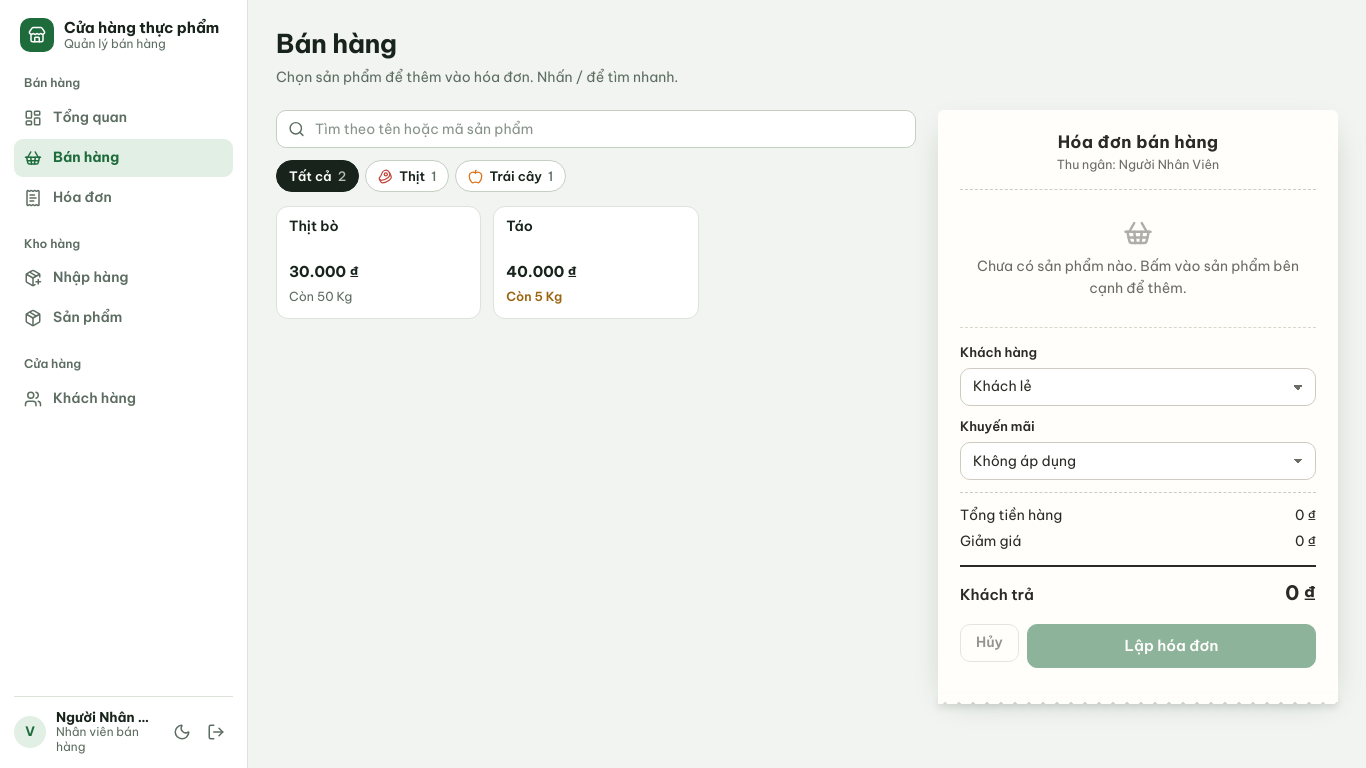
Test: App › lập hóa đơn: thêm sản phẩm, máy chủ tính khuyến mãi, gửi đúng dữ liệu
This screenshot has width=1366, height=768.
Click the button "Thịt bò 30.000 ₫ Còn 50 Kg" at (379, 263), box x1=276 y1=206 x2=481 y2=319
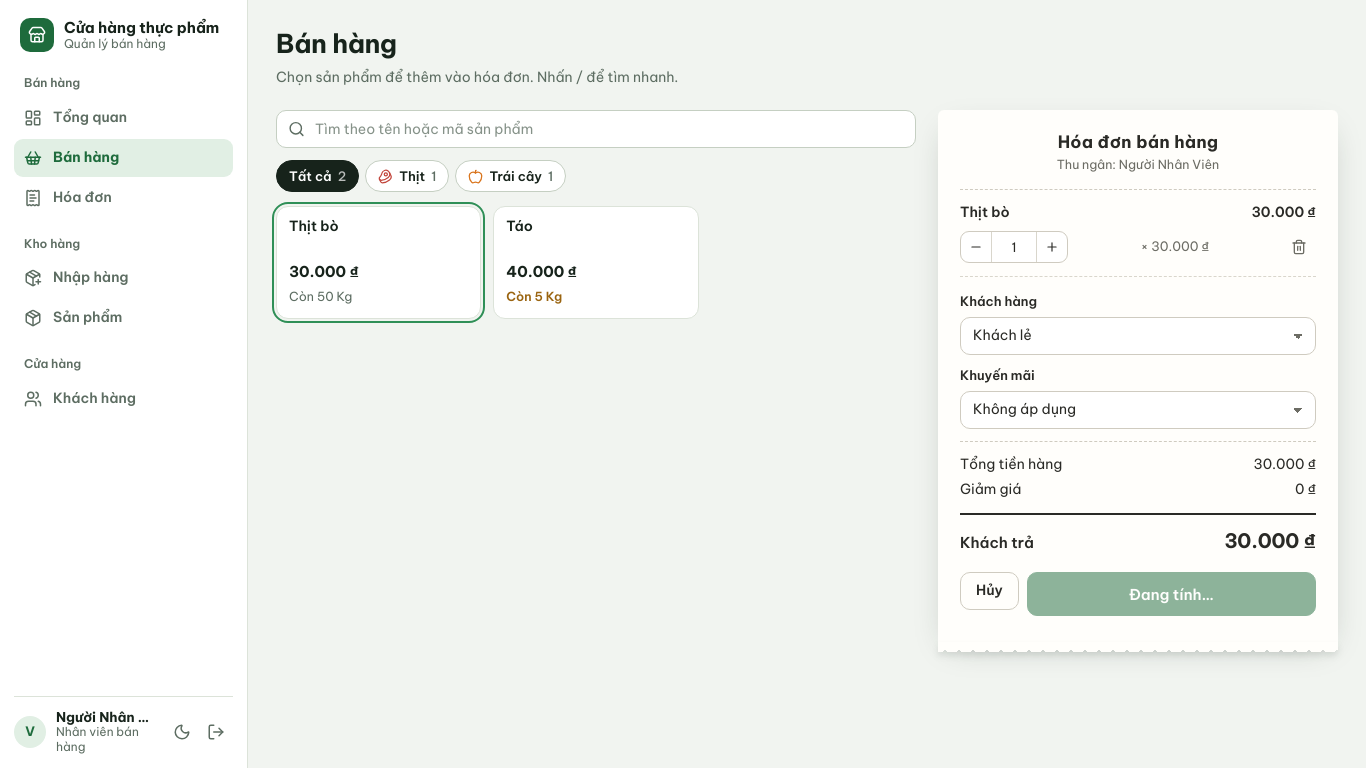
Select "Cuối tháng: giảm 10%, đơn từ 200000" in the dropdown labelled "Khuyến mãi" at (1138, 410), box x1=960 y1=391 x2=1316 y2=429
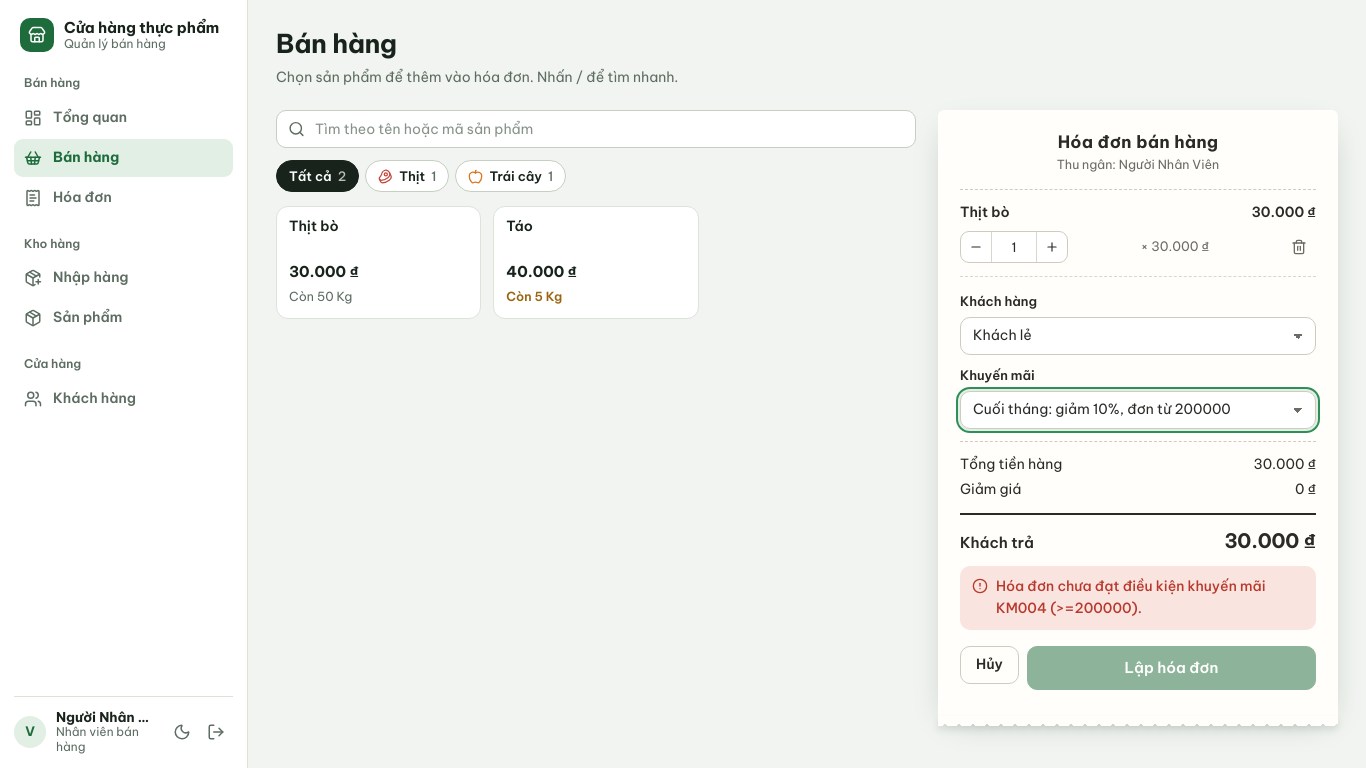
Expected: the button "Lập hóa đơn" is disabled, x1=1027 y1=646 x2=1316 y2=690
Expected: the message shows "chưa đạt điều kiện", x1=996 y1=577 x2=1266 y2=617
Replace the text in the number field named "Số lượng Thịt bò" with "8" at (1014, 246), box x1=991 y1=232 x2=1037 y2=262
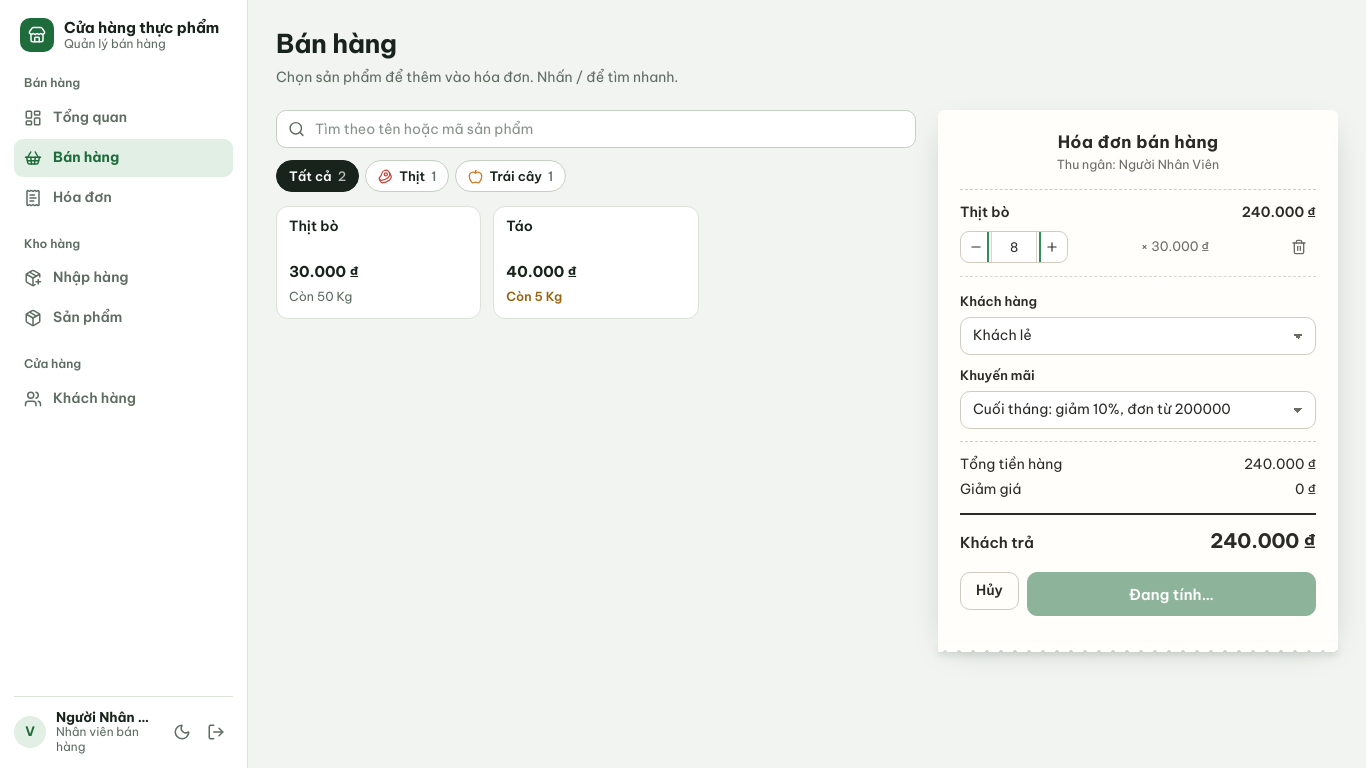
Select "Nguyễn Văn A (0900)" in the dropdown labelled "Khách hàng" at (1138, 336), box x1=960 y1=317 x2=1316 y2=355
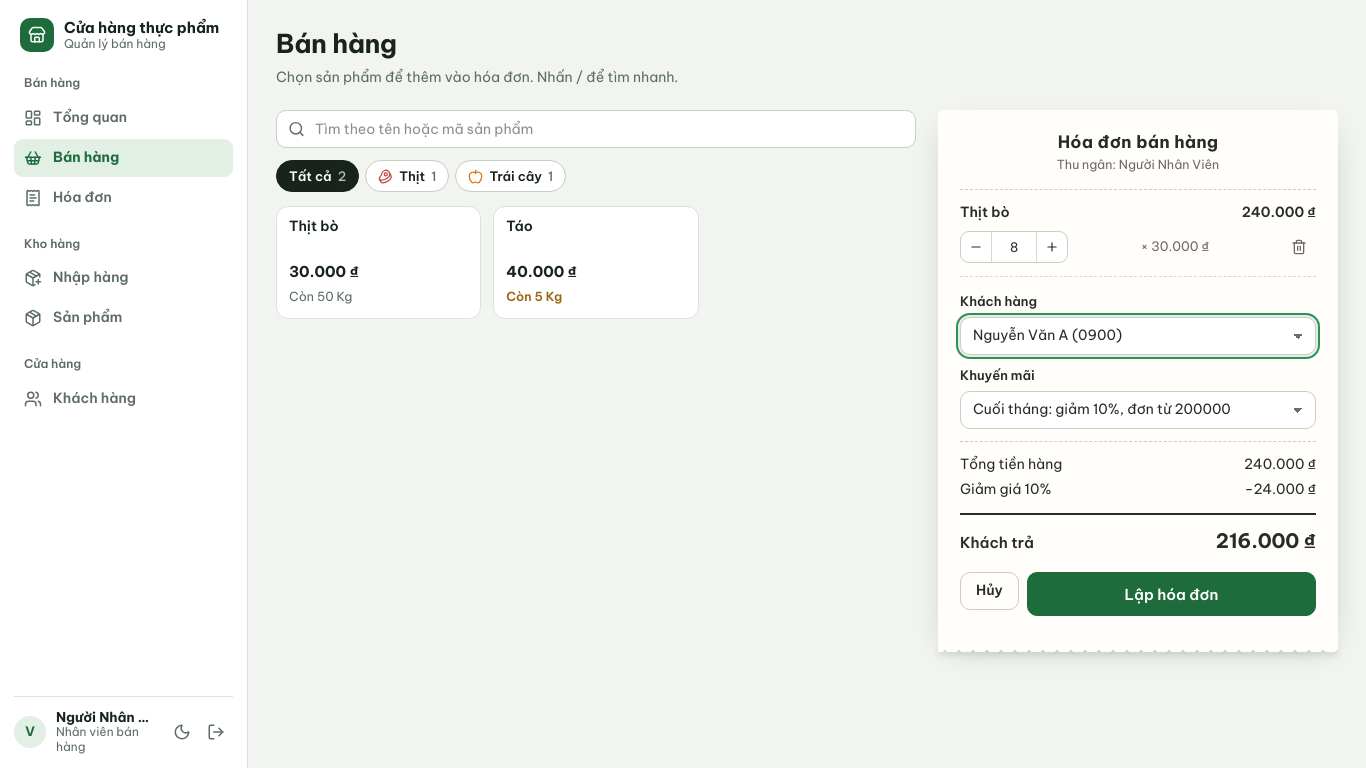
Expected: the button "Lập hóa đơn" is enabled
Expected: the text "216.000 ₫" is shown, x1=1216 y1=525 x2=1316 y2=556
Click the button "Lập hóa đơn" at (1171, 594), box x1=1027 y1=572 x2=1316 y2=616
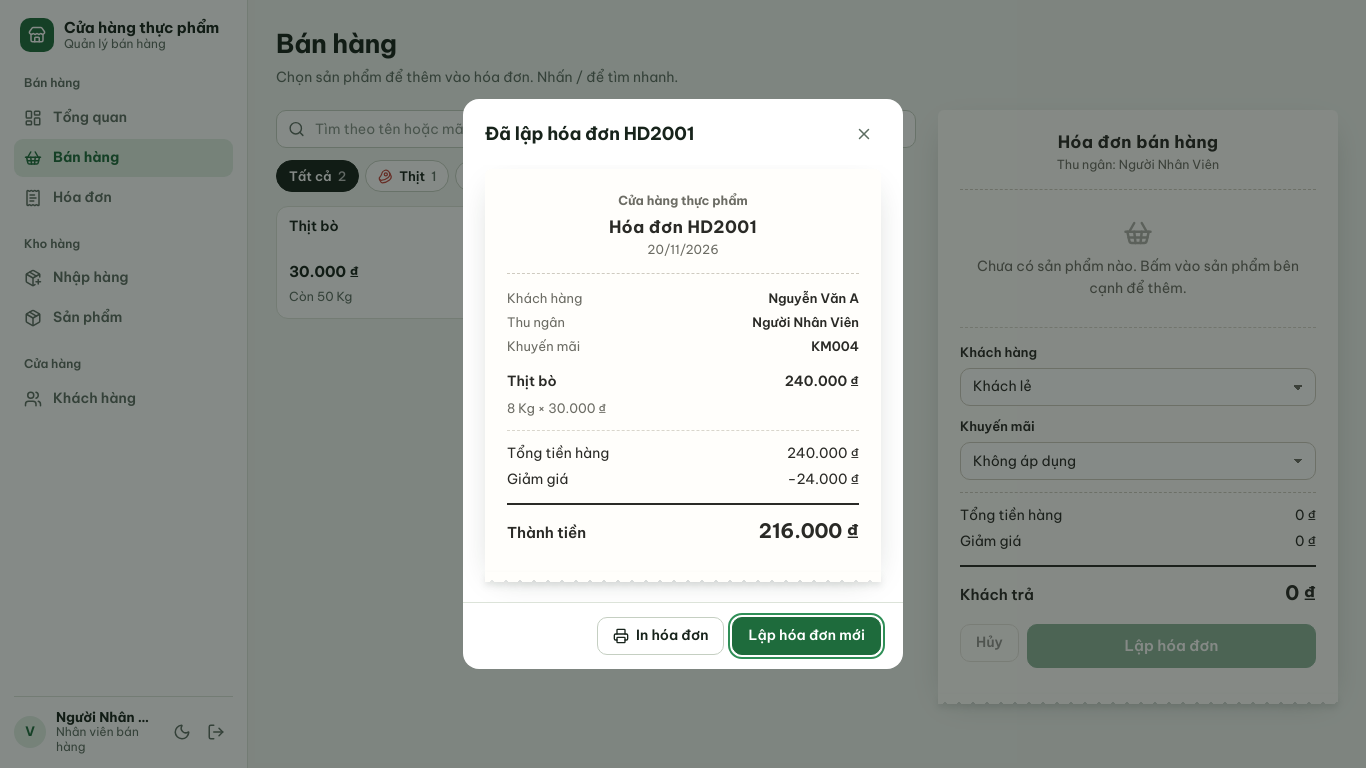
Expected: the heading "Đã lập hóa đơn HD2001" is shown, x1=485 y1=123 x2=694 y2=145
